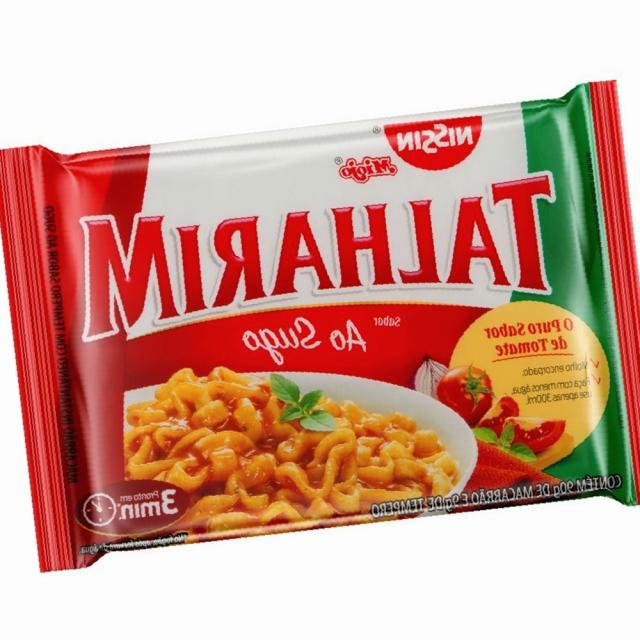pasta package: (0, 82, 639, 570)
